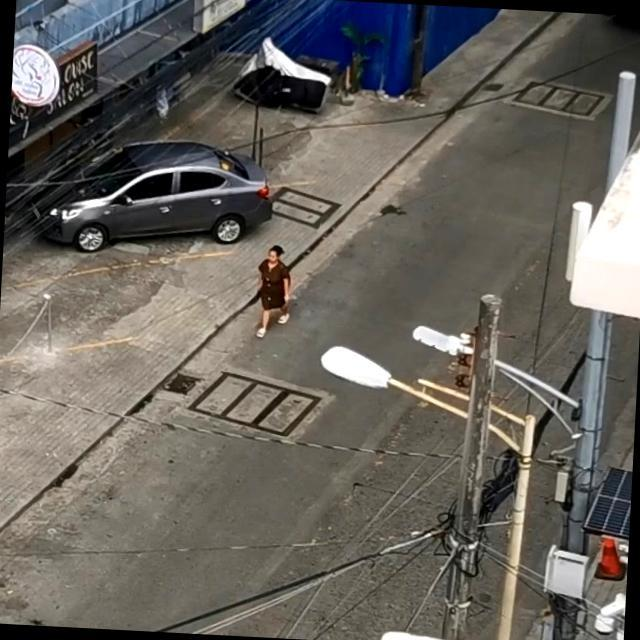Car: (32, 134, 266, 258)
